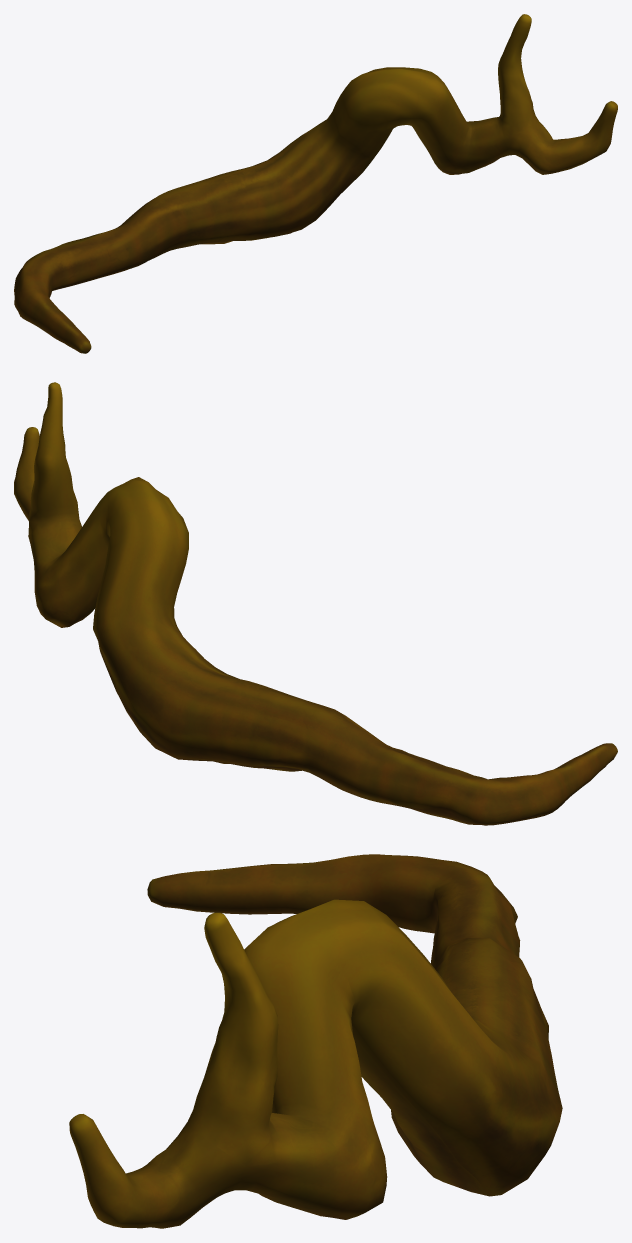
Rendered from SM_Root_5_Trunk.fbx.
The picture shows the model from 3 angles, top to bottom: view 1: azimuth 30°, elevation 25°; view 2: azimuth 150°, elevation 25°; view 3: azimuth 270°, elevation 25°; orthographic projection. The views are drawn at different scales.
Parts seen in each view (by area): view 1: SM_Root_5_Trunk_LOD0; view 2: SM_Root_5_Trunk_LOD0; view 3: SM_Root_5_Trunk_LOD0.
Part boxes in pixels (left/top/right/bottom): SM_Root_5_Trunk_LOD0: left=14, top=14, right=617, bottom=353; SM_Root_5_Trunk_LOD0: left=14, top=382, right=617, bottom=825; SM_Root_5_Trunk_LOD0: left=69, top=854, right=562, bottom=1228.
Size of the model in its own units: 383 by 156 by 156.
Materials: 1 (1 with a texture image).
